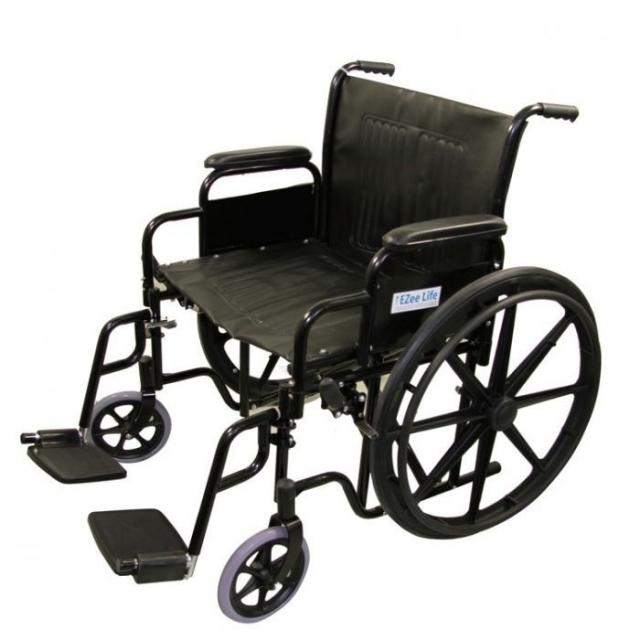wheelchair: (10, 46, 603, 630)
